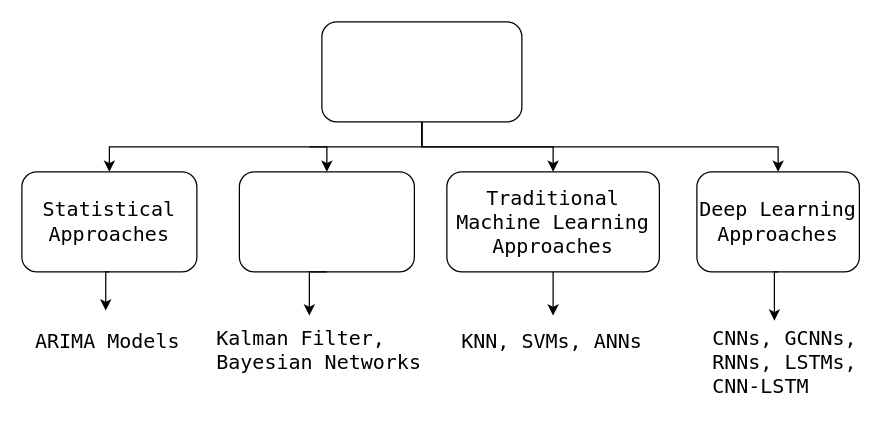
Image size: 894x428. Some labels were removed from this diagram. Here are the shapes that lost their labels. From the top down, the centre of each, then its label:
At (x=421, y=71): "Traffic Forecasting".
At (x=326, y=221): "Stochastic-Based Approaches".
